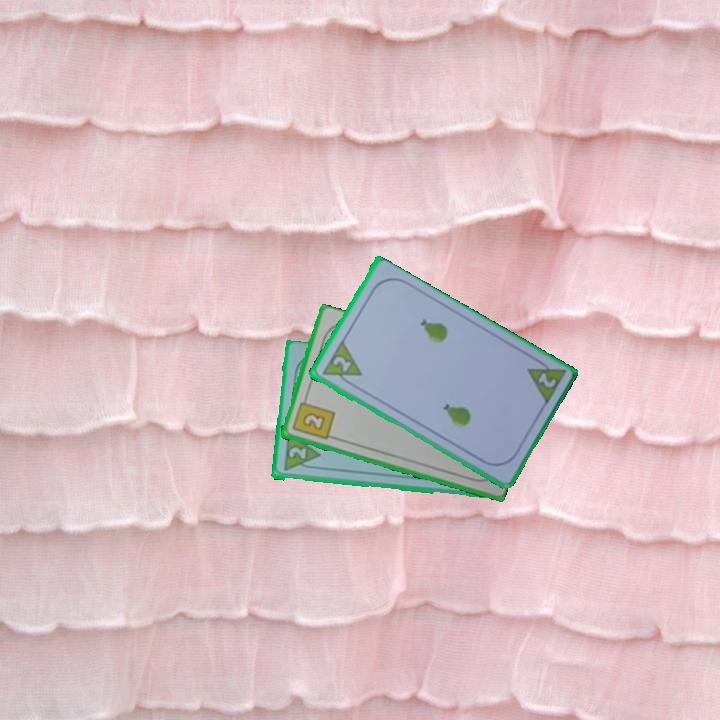2b: (289, 393, 337, 443)
2p: (280, 431, 322, 474), (328, 353, 354, 375), (534, 369, 559, 391)
